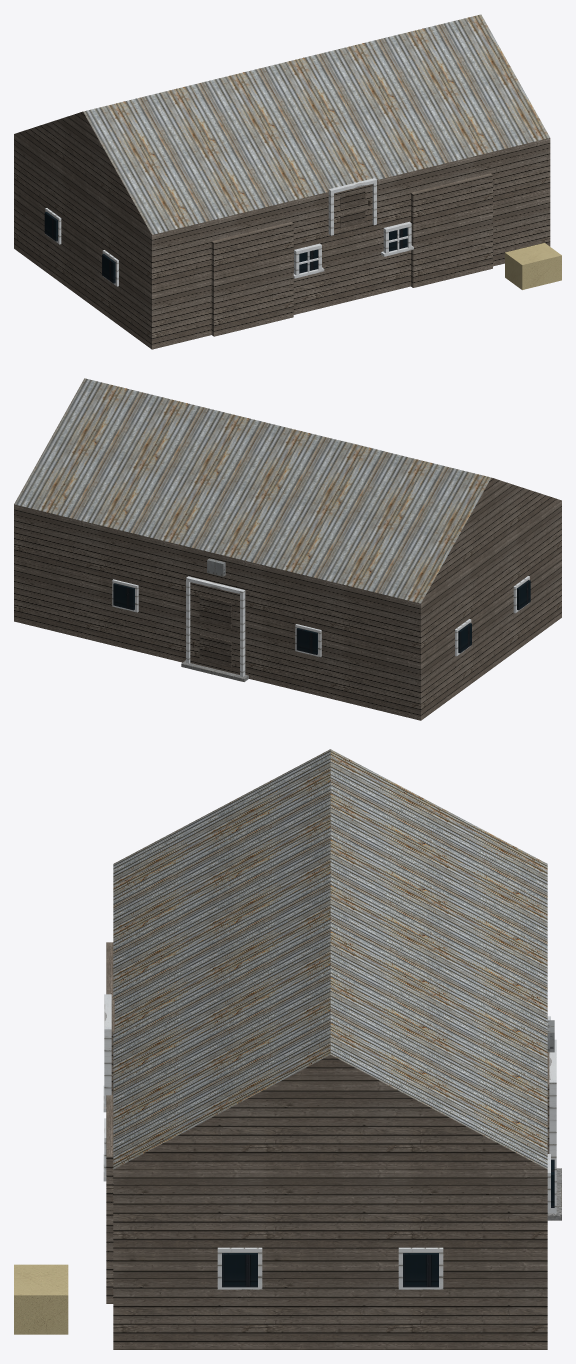
The model's file is hay-barn_lod0.gltf.
3 views of the same model, one above another, from view 1: azimuth 30°, elevation 25°; view 2: azimuth 150°, elevation 25°; view 3: azimuth 270°, elevation 25° (orthographic). The views are drawn at different scales.
Visible parts, largest first — view 1: hay-barn_roof, hay-barn_walls, hay-barn__sliding_door_a, hay-barn__sliding_door_b, hay-barn_gable_ends, hay-barn_fen_20-white-clapboard_0, hay-barn__hay_bales, hay-barn_fen_07-glass-curtain-blue_4_t, hay-barn_fen_18-timber-siding_1, hay-barn_fen_18-timber-siding_2_t; view 2: hay-barn_roof, hay-barn_walls, hay-barn_gable_ends, hay-barn_fen_18-timber-siding_1, hay-barn_fen_20-white-clapboard_0, hay-barn_fen_18-timber-siding_2_t, hay-barn_fen_07-glass-curtain-blue_4_t, hay-barn_fen_06-granite_5; view 3: hay-barn_roof, hay-barn_walls, hay-barn_gable_ends, hay-barn_fen_20-white-clapboard_0, hay-barn__hay_bales, hay-barn_fen_07-glass-curtain-blue_4_t, hay-barn__sliding_door_b.
Boxes of the visible parts, box(x1,y1,x2,y2) form: hay-barn_roof: box(83, 14, 549, 234); hay-barn_walls: box(14, 134, 550, 349); hay-barn__sliding_door_a: box(211, 222, 293, 336); hay-barn__sliding_door_b: box(411, 173, 492, 287); hay-barn_gable_ends: box(14, 111, 151, 234); hay-barn_fen_20-white-clapboard_0: box(45, 178, 413, 286); hay-barn__hay_bales: box(505, 243, 561, 289); hay-barn_fen_07-glass-curtain-blue_4_t: box(44, 212, 407, 283); hay-barn_fen_18-timber-siding_1: box(334, 184, 372, 234); hay-barn_fen_18-timber-siding_2_t: box(340, 190, 365, 228); hay-barn_roof: box(14, 378, 491, 603); hay-barn_walls: box(14, 500, 561, 720); hay-barn_gable_ends: box(421, 477, 561, 603); hay-barn_fen_18-timber-siding_1: box(190, 582, 239, 674); hay-barn_fen_20-white-clapboard_0: box(112, 440, 529, 676); hay-barn_fen_18-timber-siding_2_t: box(199, 595, 231, 667); hay-barn_fen_07-glass-curtain-blue_4_t: box(113, 580, 530, 654); hay-barn_fen_06-granite_5: box(181, 660, 248, 681); hay-barn_roof: box(113, 749, 547, 1169); hay-barn_walls: box(113, 1169, 547, 1349); hay-barn_gable_ends: box(114, 1055, 546, 1169); hay-barn_fen_20-white-clapboard_0: box(103, 994, 556, 1289); hay-barn__hay_bales: box(14, 1264, 68, 1334); hay-barn_fen_07-glass-curtain-blue_4_t: box(222, 1159, 554, 1287); hay-barn__sliding_door_b: box(106, 1095, 113, 1303).
Size of the model in its own units: 20.4 by 9.02 by 15.15.
